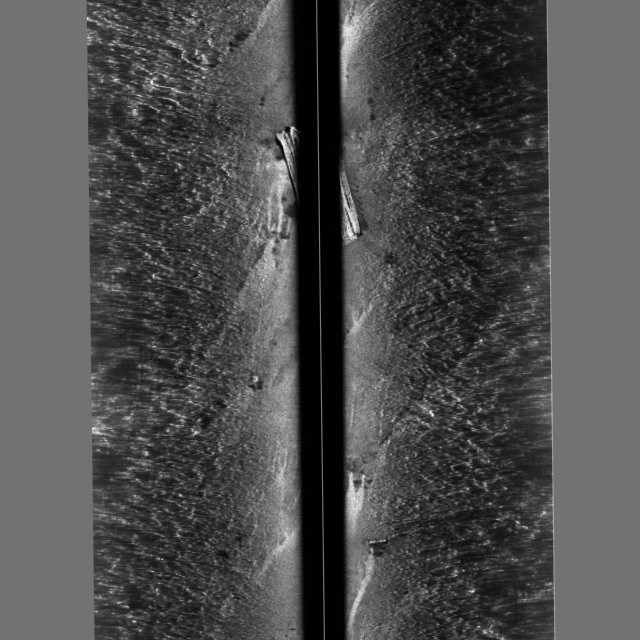Shipwreck: (274, 124, 385, 545)
